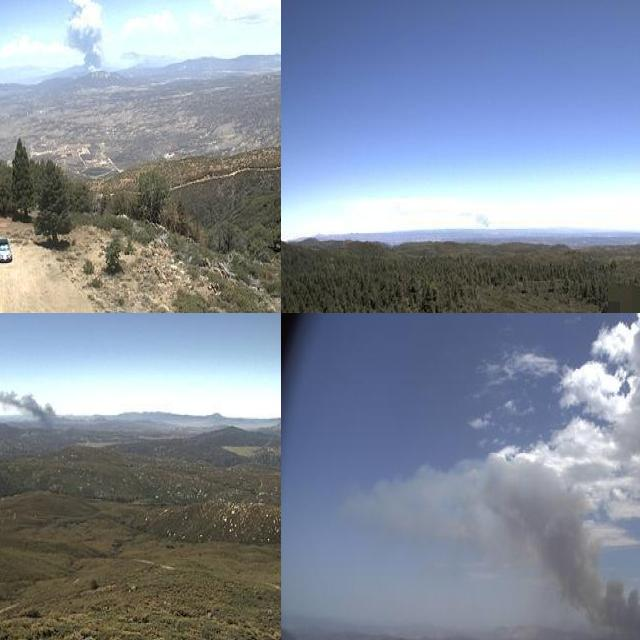smoke: (406, 447, 640, 640), (60, 0, 116, 80), (0, 381, 59, 432), (457, 201, 495, 233)
